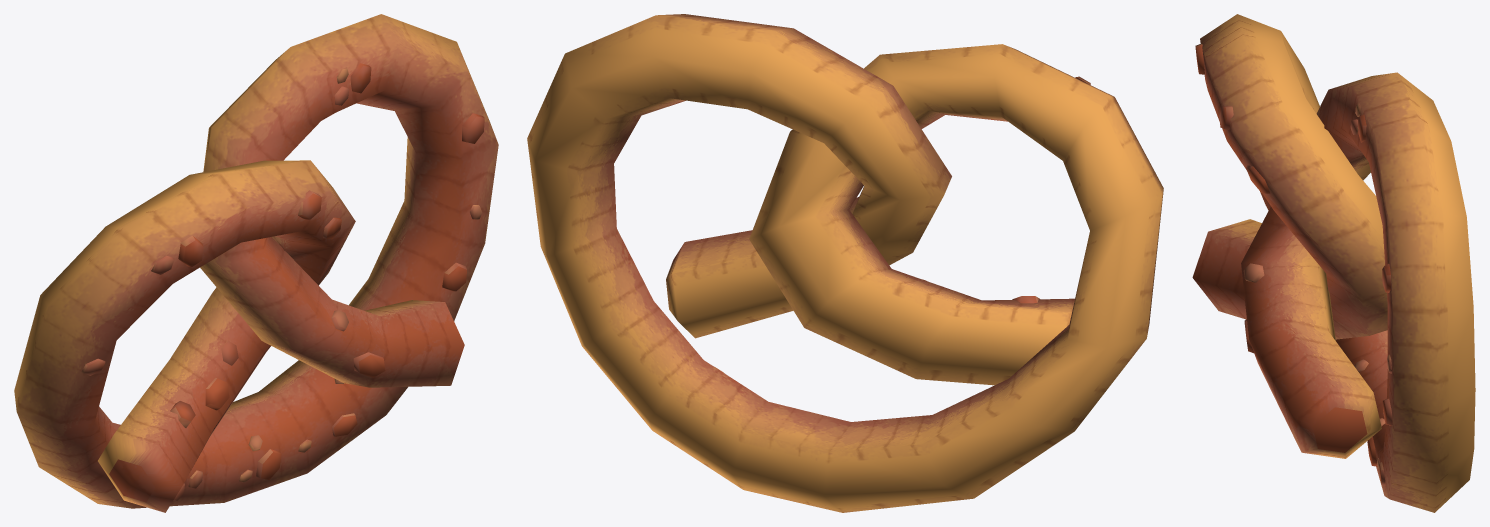
The model's file is Balloon_Pretzel_Art.fbx.
3 views of the same model, side by side, from view 1: azimuth 30°, elevation 25°; view 2: azimuth 150°, elevation 25°; view 3: azimuth 270°, elevation 25° (orthographic). The views are drawn at different scales.
Parts seen in each view (by area): view 1: Oktoberfest_Balloon_Pretzel; view 2: Oktoberfest_Balloon_Pretzel; view 3: Oktoberfest_Balloon_Pretzel.
Boxes of the visible parts, bbox=[...] form: Oktoberfest_Balloon_Pretzel: bbox=[14, 14, 498, 512]; Oktoberfest_Balloon_Pretzel: bbox=[527, 14, 1163, 512]; Oktoberfest_Balloon_Pretzel: bbox=[1192, 14, 1475, 512].
Size of the model in its own units: 756 by 593 by 349.
1 material, 1 textured.
